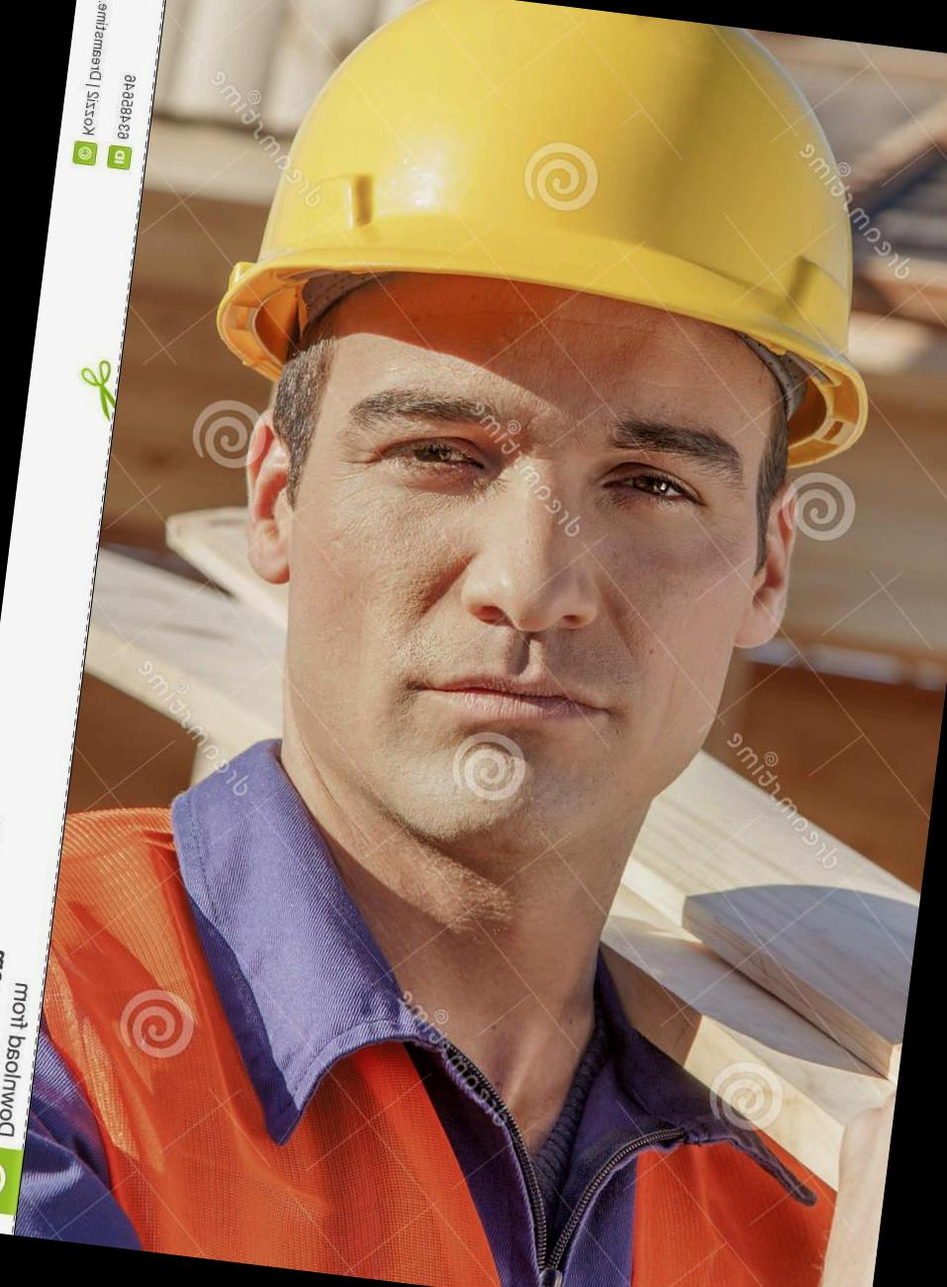helmet: (163, 0, 947, 482)
person: (18, 0, 947, 1287)
